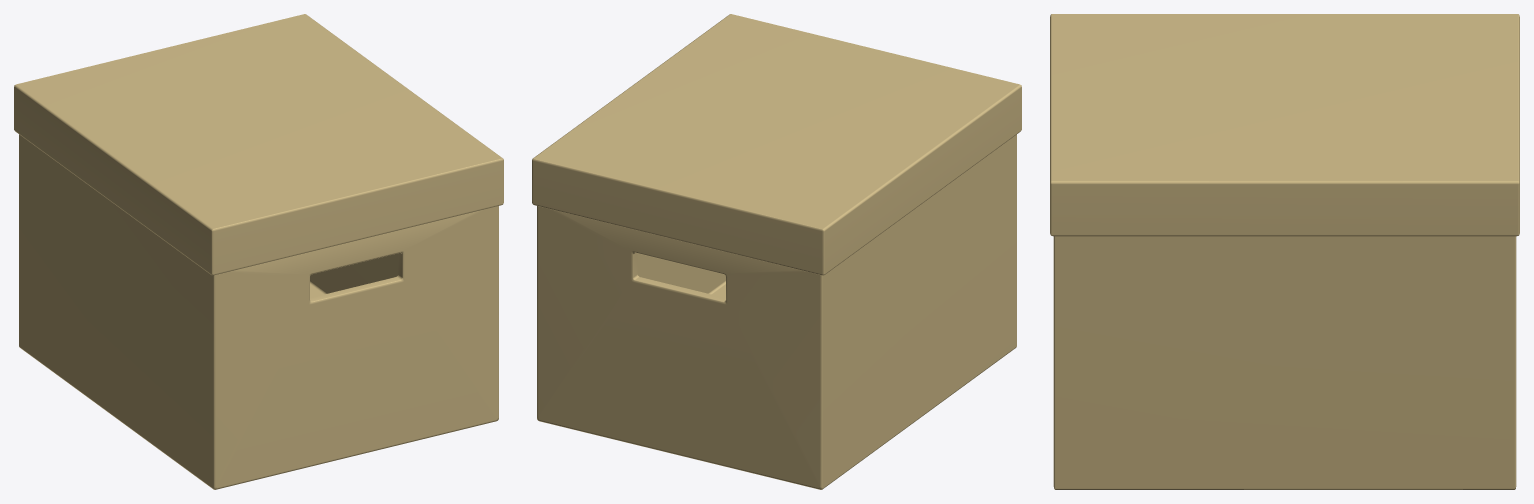
File: Aato_PaperBox2.fbx
3 renders of one model, left to right at view 1: azimuth 30°, elevation 25°; view 2: azimuth 150°, elevation 25°; view 3: azimuth 270°, elevation 25°, orthographic. The views are drawn at different scales.
Visible parts, largest first — view 1: box2; view 2: box2; view 3: box2.
Part boxes in pixels (x1,y1,x2,y2): box2: (14,14,503,489); box2: (532,14,1021,489); box2: (1050,14,1519,489).
Size of the model in its own units: 0.00901 by 0.00774 by 0.0106.
